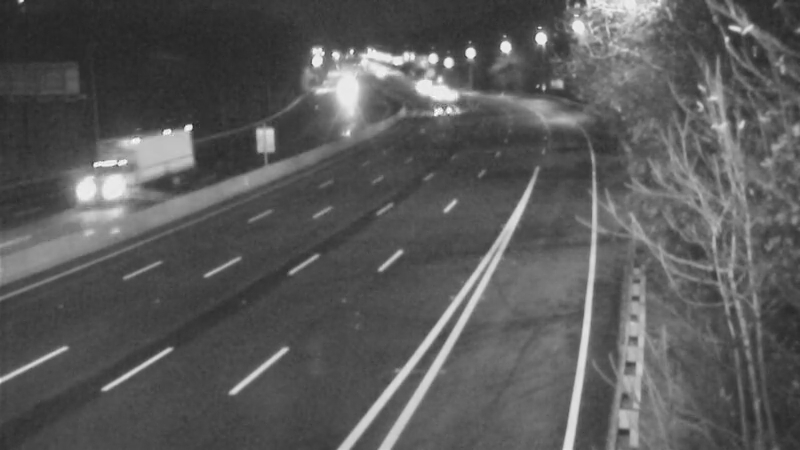vehicle: (69, 151, 149, 231), (394, 59, 444, 109), (407, 65, 457, 115), (422, 69, 472, 119), (418, 86, 468, 136)
